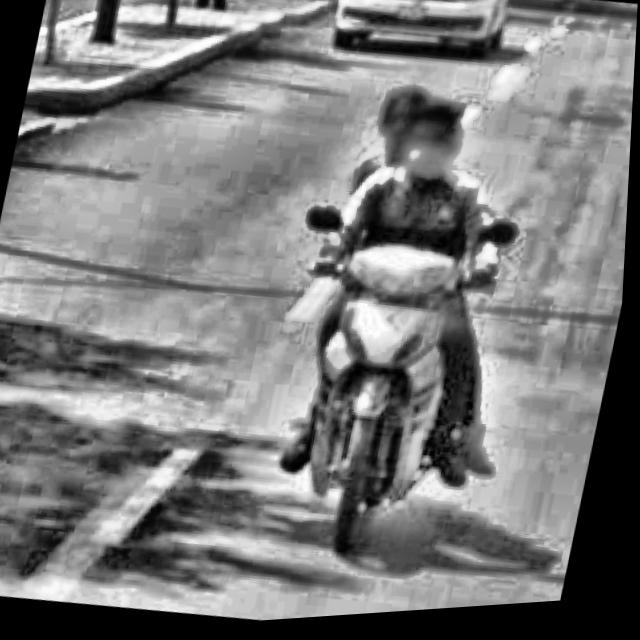motorcycle: (223, 172, 535, 594)
